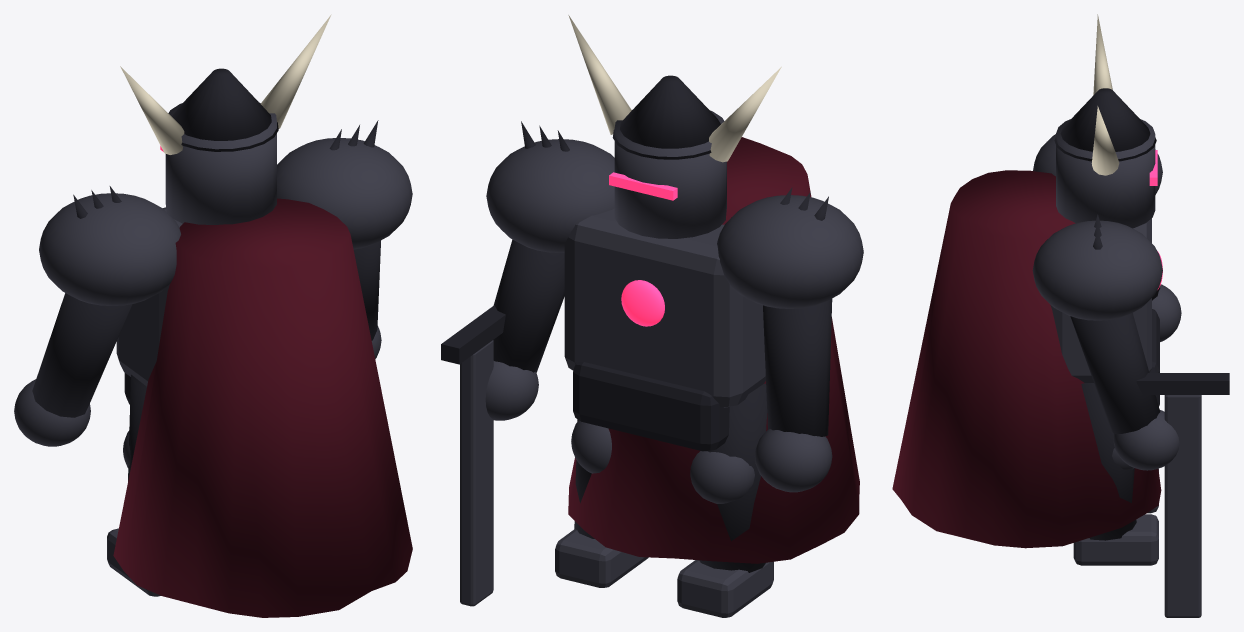
File: warden.glb
The picture shows the model from 3 angles, left to right: view 1: azimuth 30°, elevation 25°; view 2: azimuth 150°, elevation 25°; view 3: azimuth 270°, elevation 25°; orthographic projection. The views are drawn at different scales.
Parts seen in each view (by area): view 1: Body; view 2: Body; view 3: Body.
Part boxes in pixels (x1=…): Body: x1=14, y1=14, x2=412, y2=617; Body: x1=441, y1=15, x2=863, y2=617; Body: x1=892, y1=14, x2=1229, y2=617.
Bounding box in the file's own units: 2.36 × 3.5 × 2.18.
